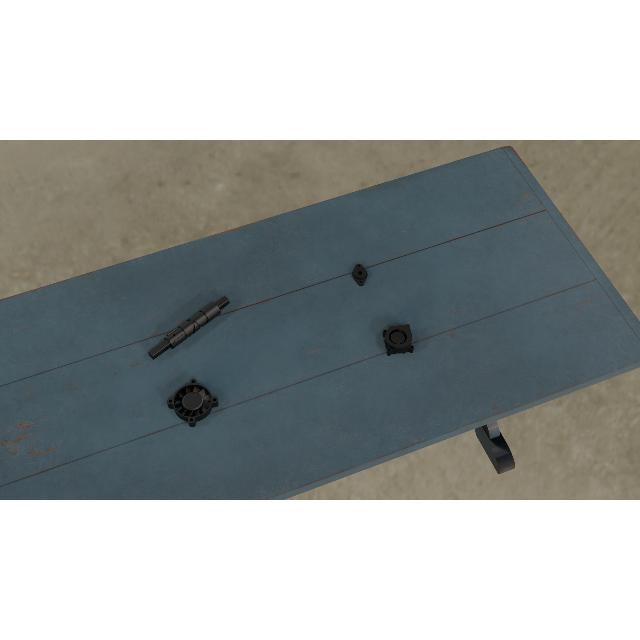Pieza1: (146, 292, 232, 364)
Pieza2: (351, 262, 369, 286)
Pieza3: (382, 324, 416, 356)
Pieza4: (165, 377, 221, 429)
